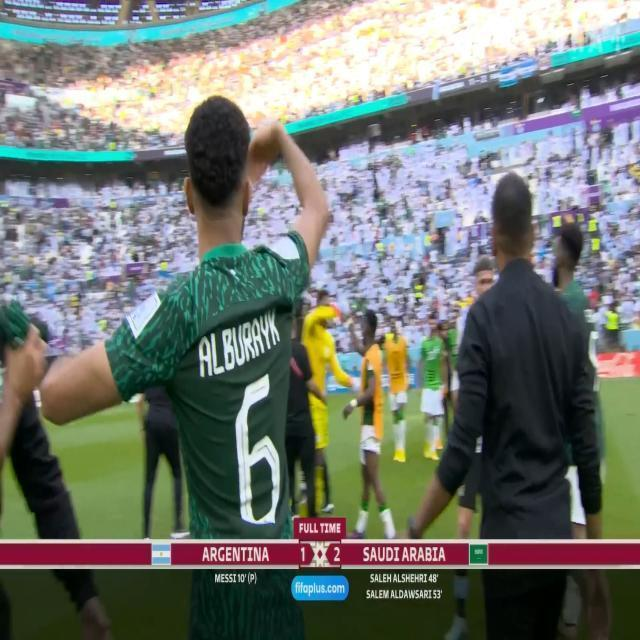player: (128, 93, 330, 540)
